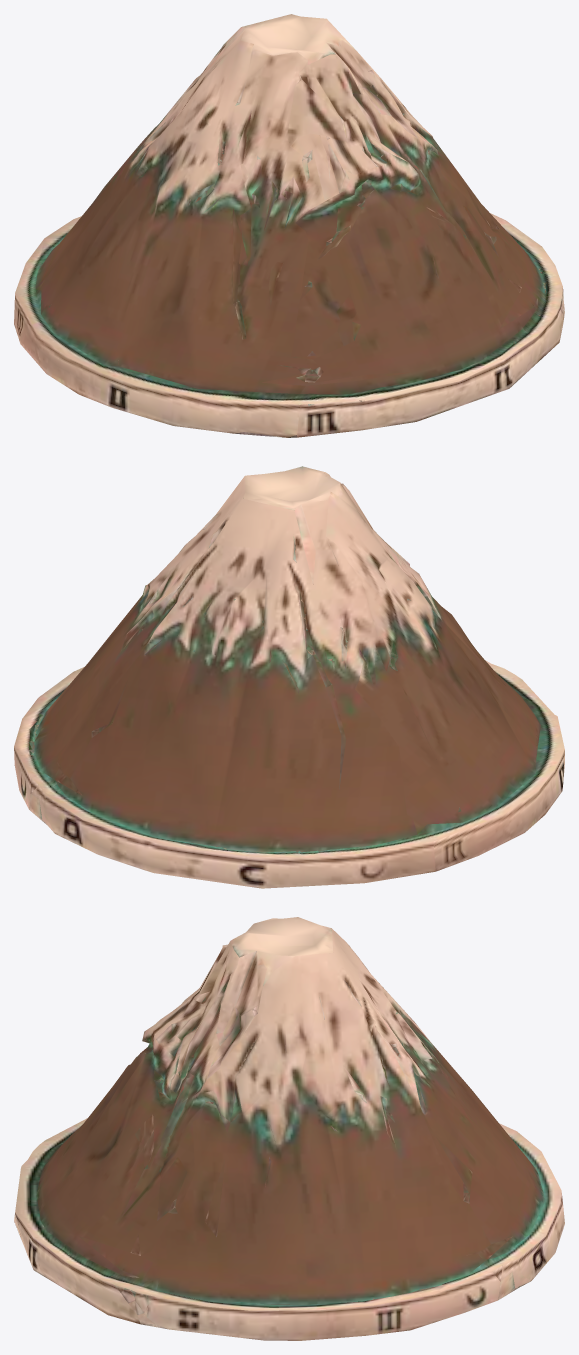
File: mount_fuji.glb
3 renders of one model, top to bottom at view 1: azimuth 30°, elevation 25°; view 2: azimuth 150°, elevation 25°; view 3: azimuth 270°, elevation 25°, orthographic.
Parts seen in each view (by area): view 1: Mesh_0; view 2: Mesh_0; view 3: Mesh_0.
Part boxes in pixels (x1,y1,x2,y2): Mesh_0: (14,14,564,437); Mesh_0: (14,466,564,888); Mesh_0: (14,917,564,1340).
Bounding box in the file's own units: 1.9 × 1.11 × 1.9.
Materials: 1 (1 with a texture image).
